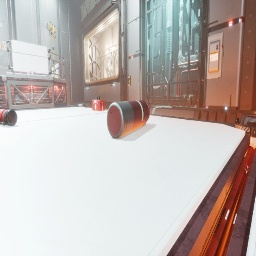EmergencyPhone ,: (1, 39, 6, 50), (127, 74, 131, 86), (4, 43, 5, 45), (129, 78, 130, 80)
FireAlarm ,: (0, 42, 1, 49)
FireExtinguisher ]: (0, 109, 18, 126)
FirstAidBox ,: (92, 96, 105, 111)
NitrogenTank ,: (107, 100, 150, 139), (19, 72, 41, 75)
SafetySwitchPanel ,: (207, 32, 224, 79)
